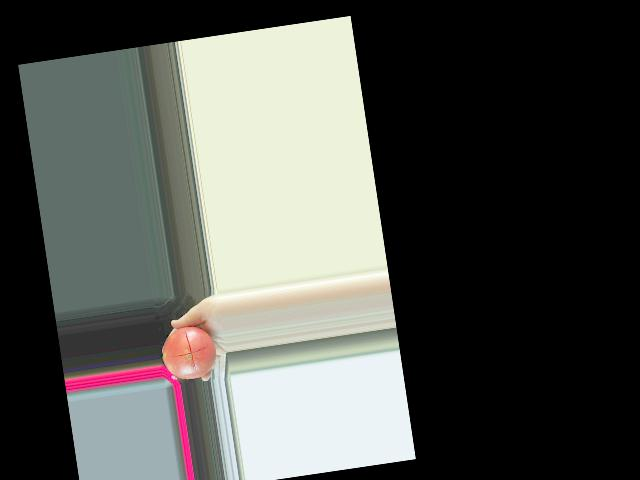tomato: (159, 323, 220, 383)
